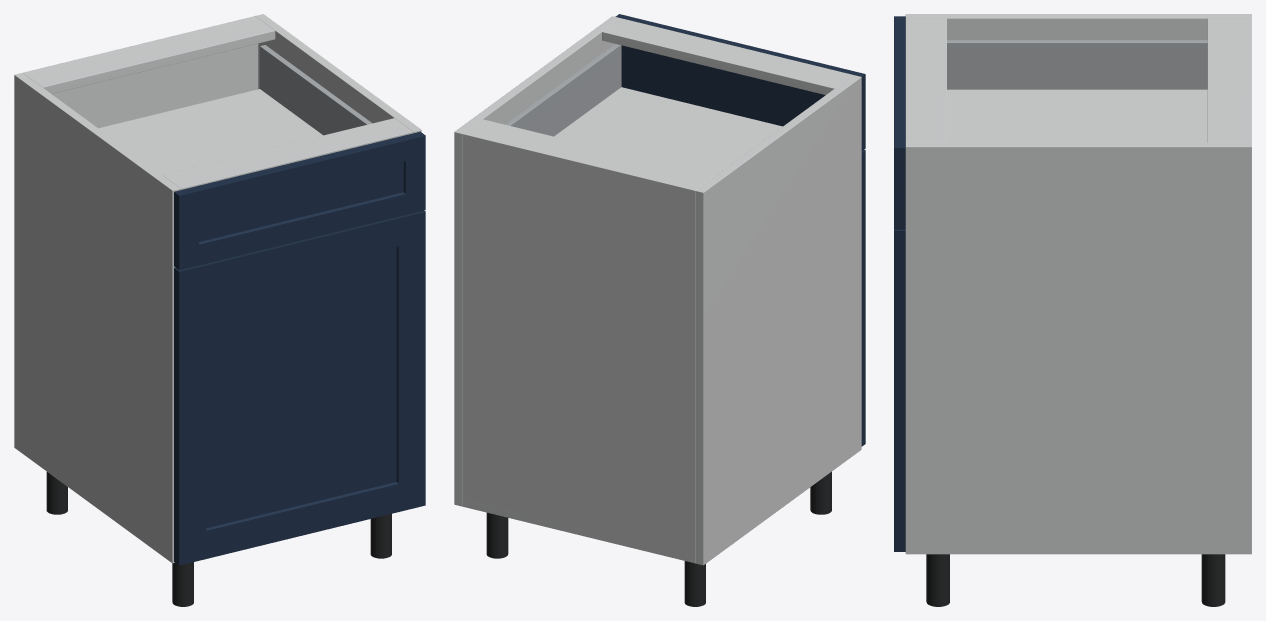
The model's file is oppein-ply-bss-b21.glb.
3 views of the same model, side by side, from view 1: azimuth 30°, elevation 25°; view 2: azimuth 150°, elevation 25°; view 3: azimuth 270°, elevation 25° (orthographic). The views are drawn at different scales.
Parts seen in each view (by area): view 1: Door, Cabinet side, Drawer front, Drawer floor, Cabinet back, Top support rail, Top support rail.001, Drawer side.001, Cabinet side.001, Adjustable foot.001, Adjustable foot.003, Adjustable foot; view 2: Cabinet back, Cabinet side, Drawer floor, Drawer front, Cabinet side.001, Top support rail.001, Drawer side.001, Top support rail, Cabinet bottom, Door, Adjustable foot.002, Adjustable foot (+1 smaller); view 3: Cabinet side.001, Drawer floor, Drawer side, Cabinet side, Top support rail.001, Top support rail, Door, Drawer front, Adjustable foot.002, Adjustable foot.003, Cabinet back.
Boxes of the visible parts, x1,y1,x2,y2 form: Door: (174, 210, 425, 565); Cabinet side: (14, 73, 180, 563); Drawer front: (174, 131, 425, 269); Drawer floor: (99, 89, 322, 174); Cabinet back: (23, 16, 258, 128); Top support rail: (24, 18, 275, 93); Top support rail.001: (162, 118, 413, 189); Drawer side.001: (260, 45, 372, 135); Cabinet side.001: (255, 14, 421, 133); Adjustable foot.001: (172, 562, 193, 606); Adjustable foot.003: (370, 514, 391, 558); Adjustable foot: (46, 472, 67, 514); Cabinet back: (462, 132, 697, 562); Cabinet side: (695, 75, 861, 565); Drawer floor: (554, 87, 782, 175); Drawer front: (615, 14, 865, 150); Cabinet side.001: (454, 16, 620, 506); Top support rail.001: (602, 18, 852, 94); Drawer side.001: (505, 44, 621, 136); Top support rail: (466, 119, 714, 188); Cabinet bottom: (462, 498, 694, 563); Door: (861, 150, 865, 446); Adjustable foot.002: (486, 512, 508, 558); Adjustable foot: (684, 561, 705, 606); Cabinet side.001: (905, 142, 1251, 554); Drawer floor: (947, 89, 1207, 142); Drawer side: (947, 40, 1207, 89); Cabinet side: (905, 14, 1251, 39); Top support rail.001: (905, 18, 946, 142); Top support rail: (1207, 18, 1245, 142); Door: (894, 229, 905, 551); Drawer front: (894, 16, 905, 229); Adjustable foot.002: (1201, 554, 1225, 606); Adjustable foot.003: (926, 554, 949, 606); Cabinet back: (1245, 18, 1251, 142).
Bounding box in the file's own units: 0.5334 × 0.8763 × 0.6064.
